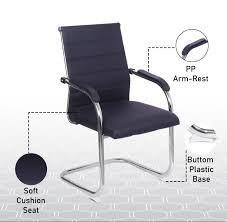chair: (56, 19, 178, 197)
